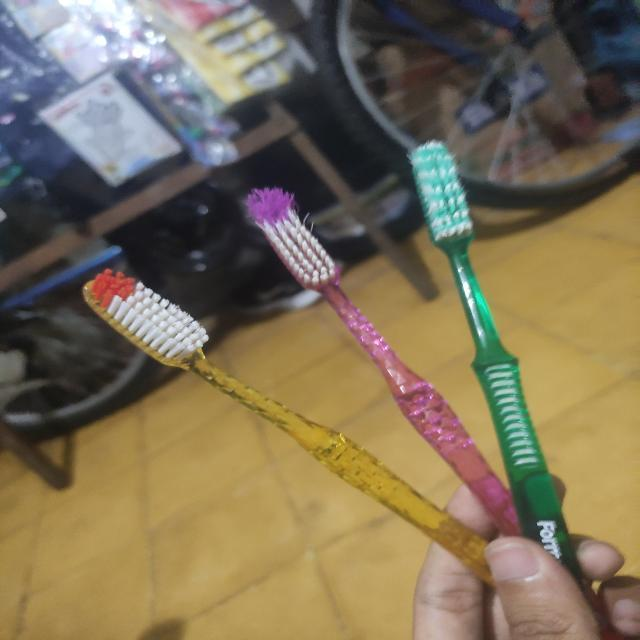toothbrush: (37, 248, 511, 600), (220, 170, 542, 546), (397, 130, 599, 602)
